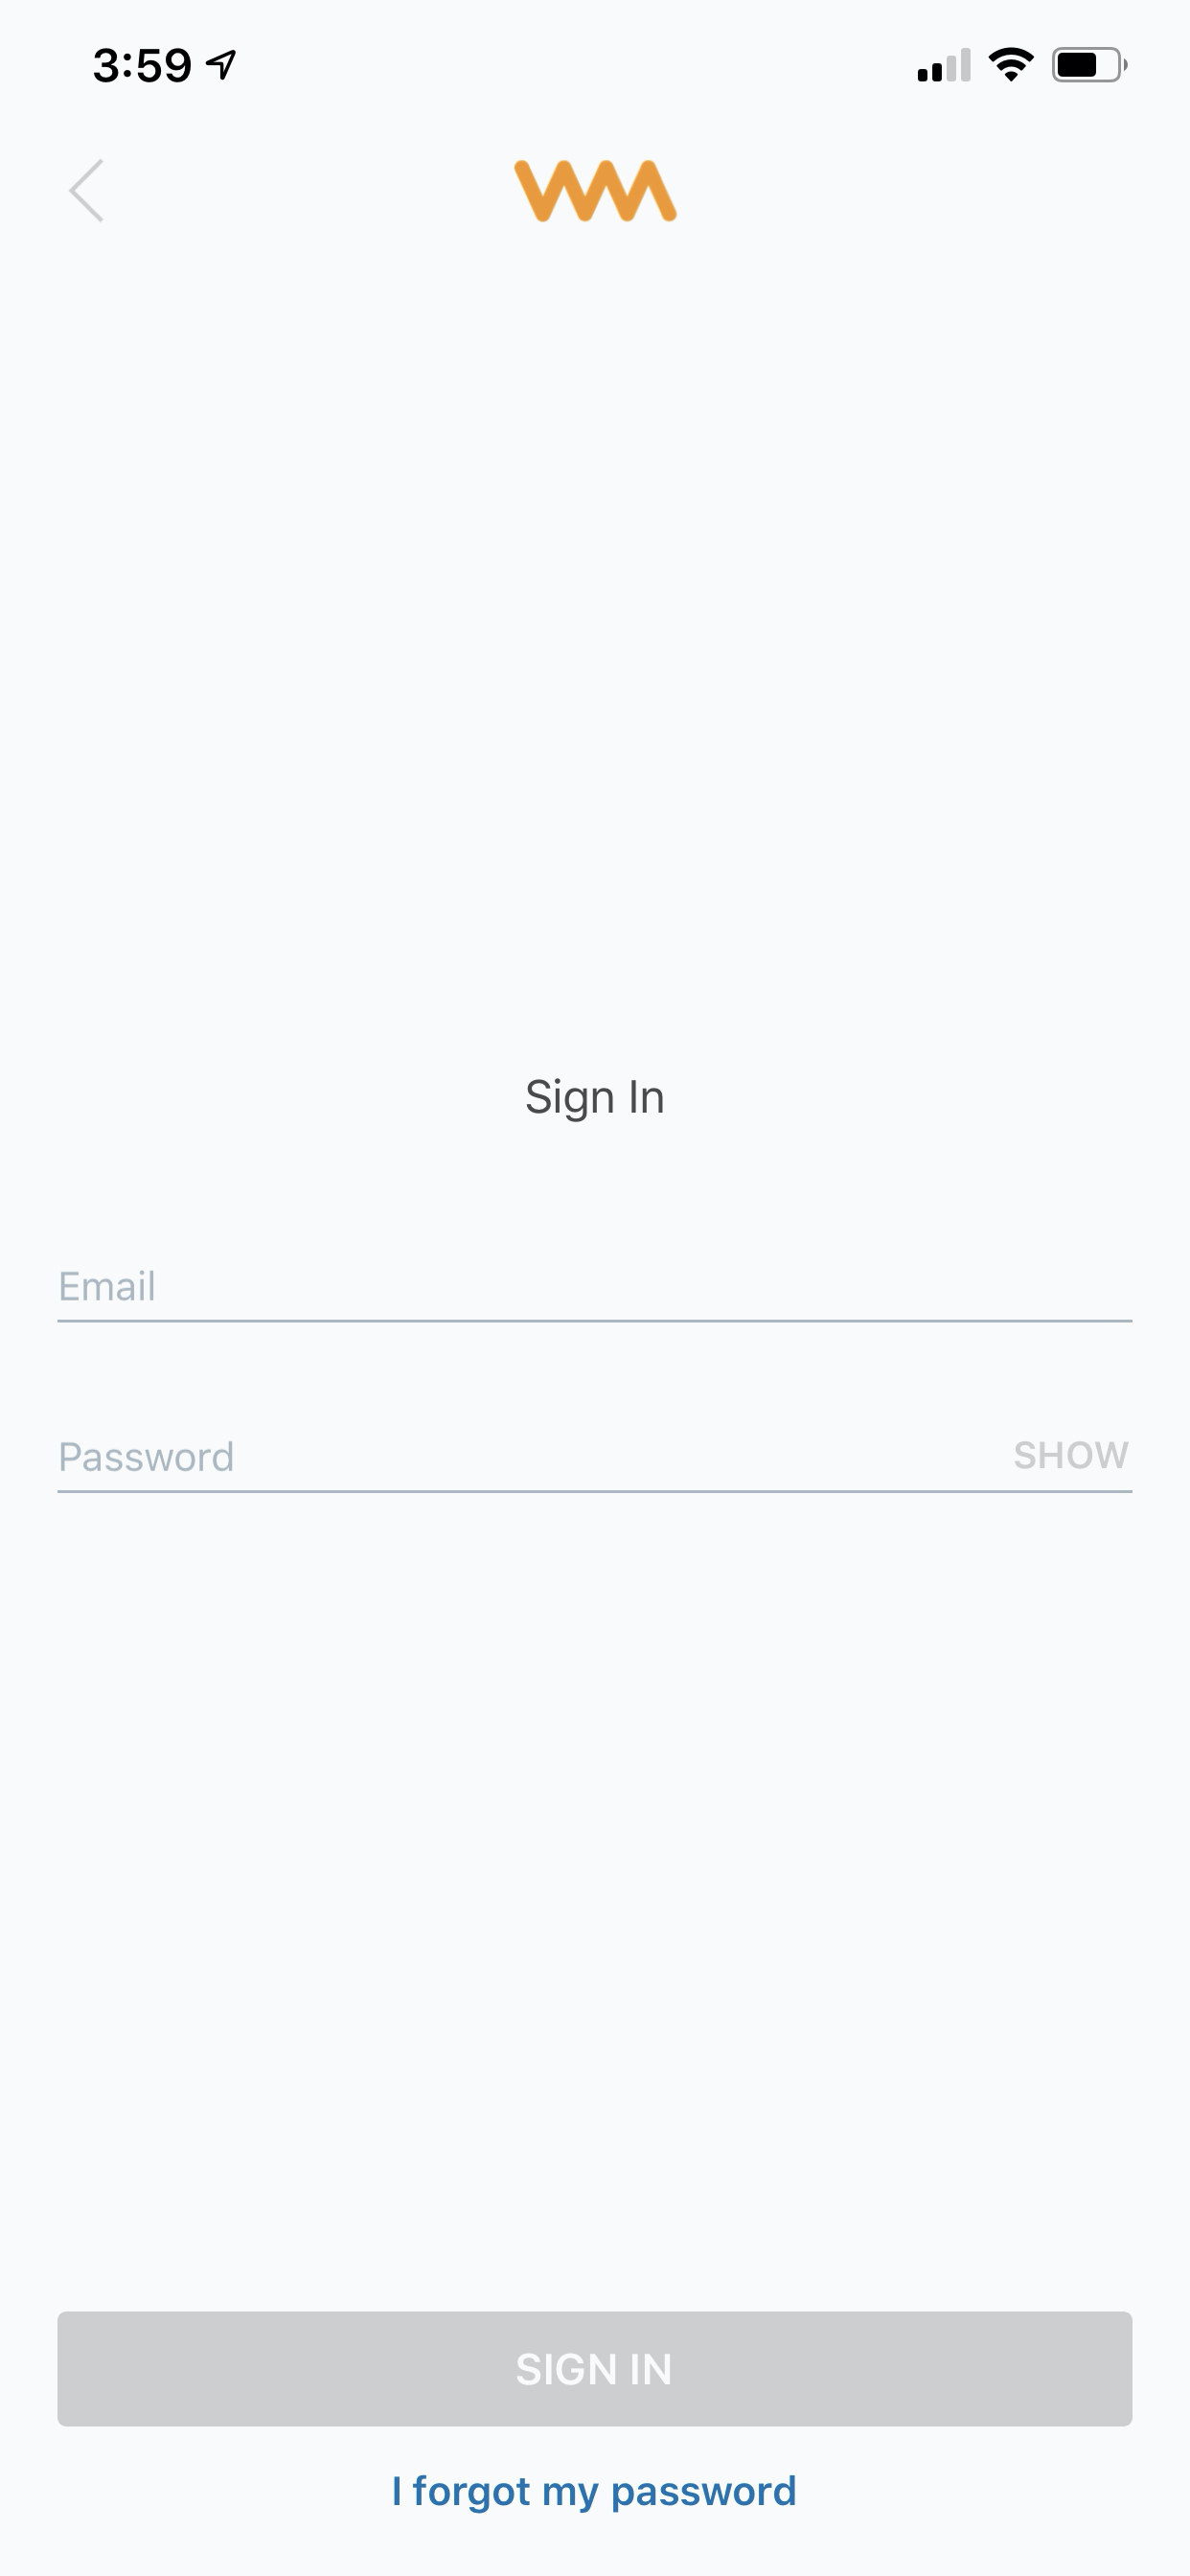EditText: (58, 1441, 1132, 1493), (58, 1270, 1132, 1322)
Icon: (69, 159, 105, 223)
Image: (516, 159, 677, 222)
Text: (394, 2474, 796, 2514), (528, 1078, 664, 1124), (61, 1441, 233, 1472), (1014, 1441, 1129, 1469), (61, 1270, 155, 1301)
TextButton: (58, 2310, 1132, 2426)
UpperTaskBar: (94, 48, 1128, 84)
